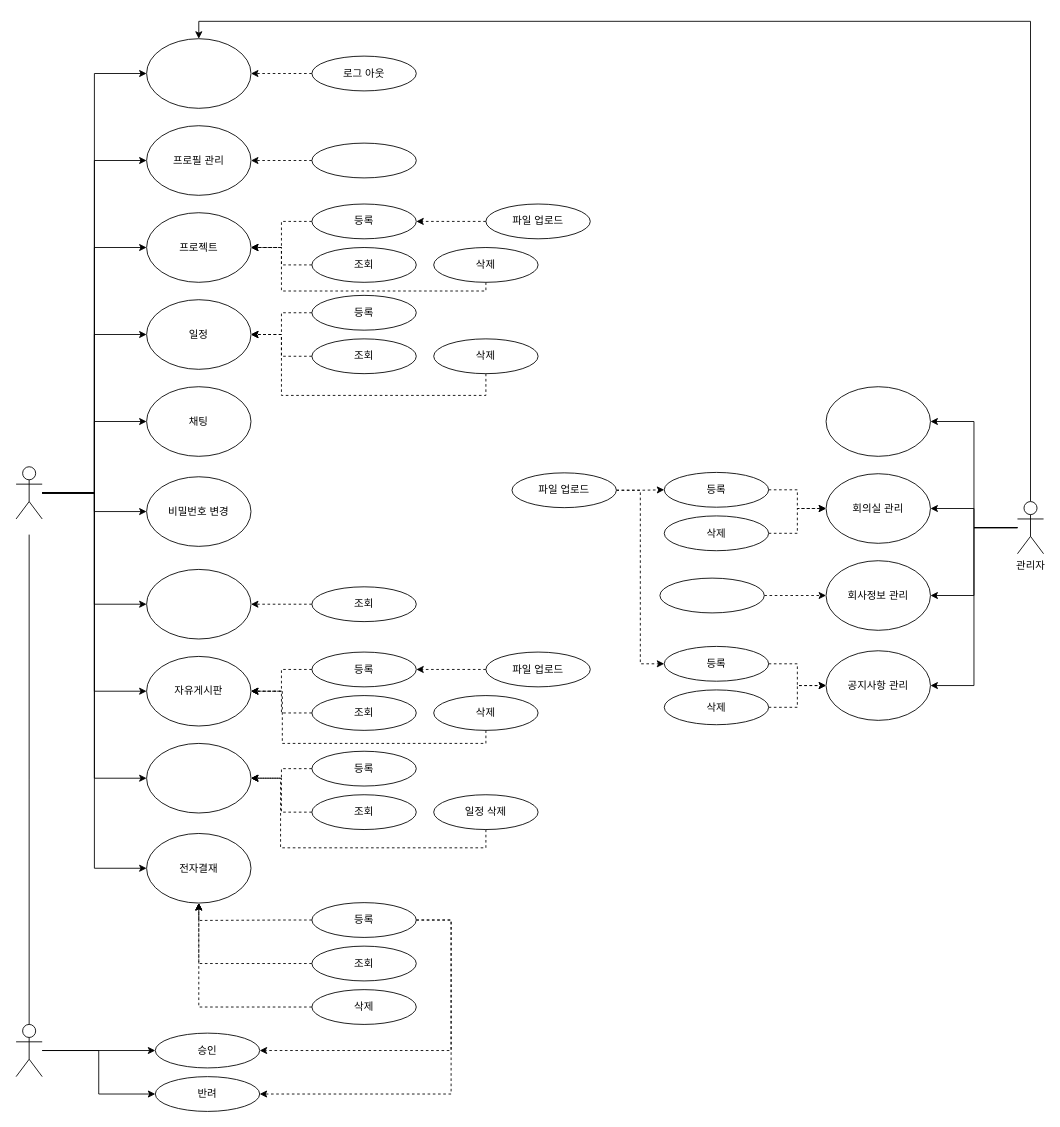
The diagram is 1060 pixels wide and 1127 high, and some of its shapes have lost their labels. The shapes that lost their labels are listed below. From the top down, each one's centre as x and y in pixels, then its label:
the point at 198,73: 로그인
the point at 363,160: 정보 수정
the point at 877,421: 구성원 관리
the point at 28,492: 사용자
the point at 198,604: 공지사항
the point at 711,595: 부서/직급 관리
the point at 198,778: 회의실 예약
the point at 28,1050: 결재자
